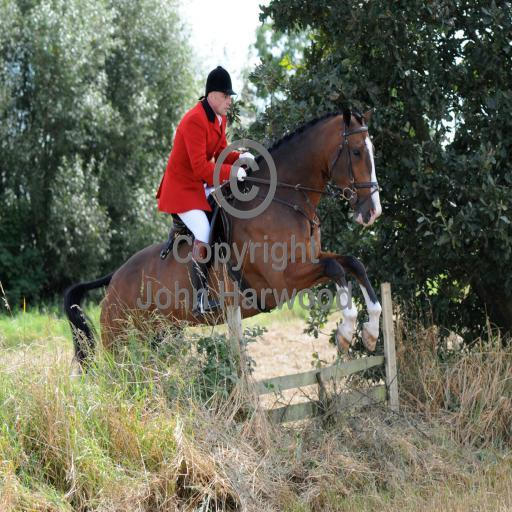Horse: (58, 100, 384, 376)
